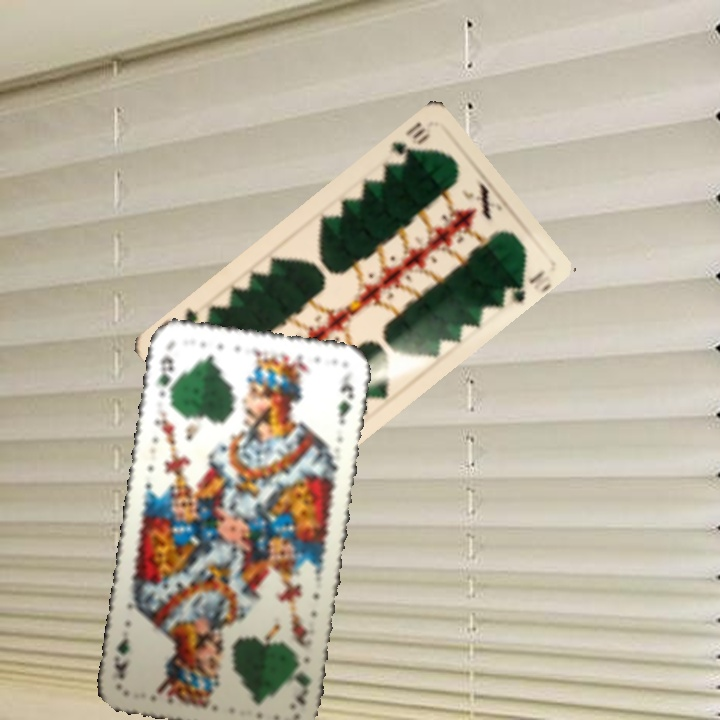G10: (383, 117, 433, 168)
GK: (153, 351, 177, 401), (292, 667, 313, 709)
